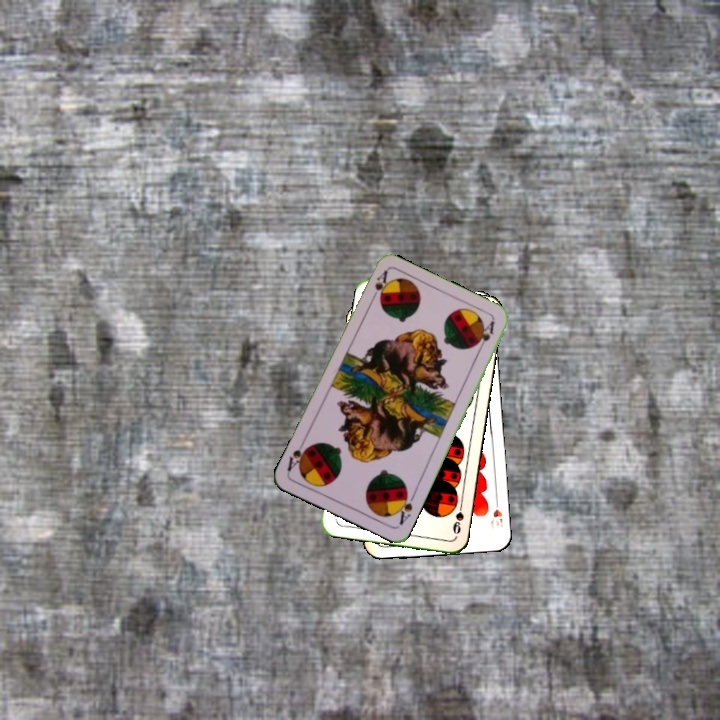H10: (486, 494, 505, 532)
S9: (447, 497, 466, 538)
SA: (392, 486, 418, 528), (366, 267, 390, 305)
